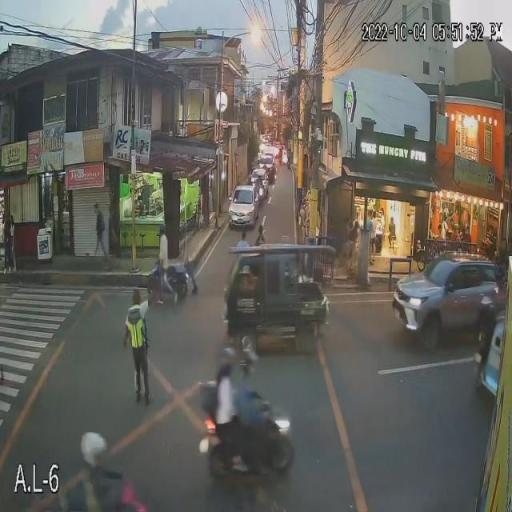helmet: (79, 433, 106, 467), (218, 348, 236, 372), (241, 352, 258, 377), (158, 224, 166, 235)
motorcycle: (195, 383, 295, 473), (55, 489, 151, 512), (146, 262, 190, 303)
rider: (217, 375, 244, 458), (236, 382, 268, 452), (70, 471, 112, 512), (157, 235, 177, 305)
